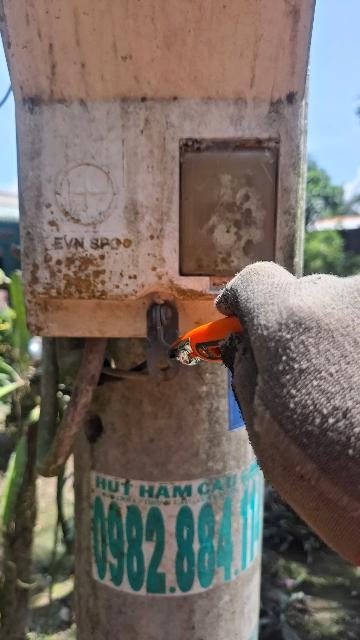gloves: (206, 246, 360, 566)
